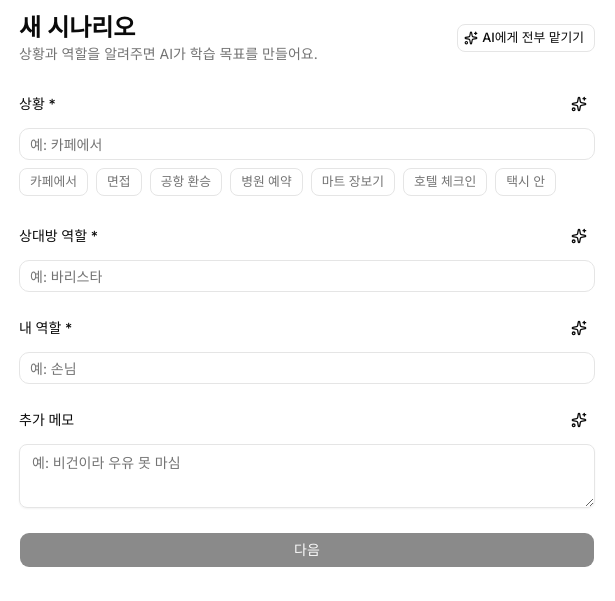
Test: ScenarioForm › disables 다음 until the 3 required fields are filled
Expected: the button "다음" is disabled, [19,532,595,568]
In the field labelled "상황 *": {"x": 307, "y": 144} [19,128,595,160], type "카페에서"
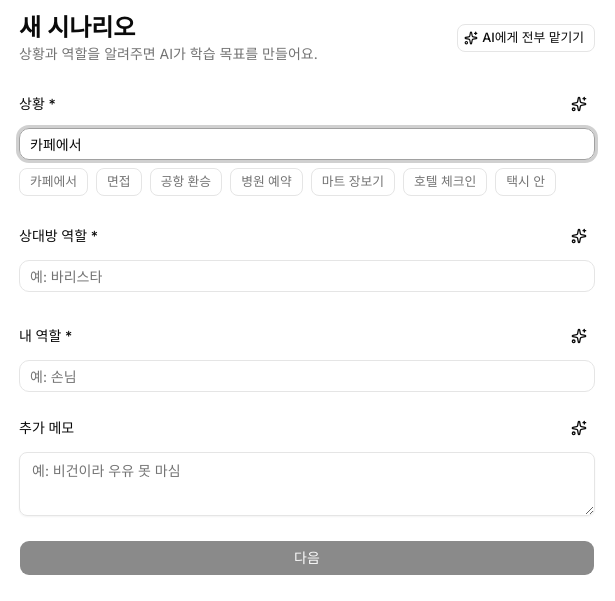
Expected: the button "다음" is disabled, [19,540,595,576]
In the field labelled "상대방 역할 *": {"x": 307, "y": 276} [19,260,595,292], type "바리스타"
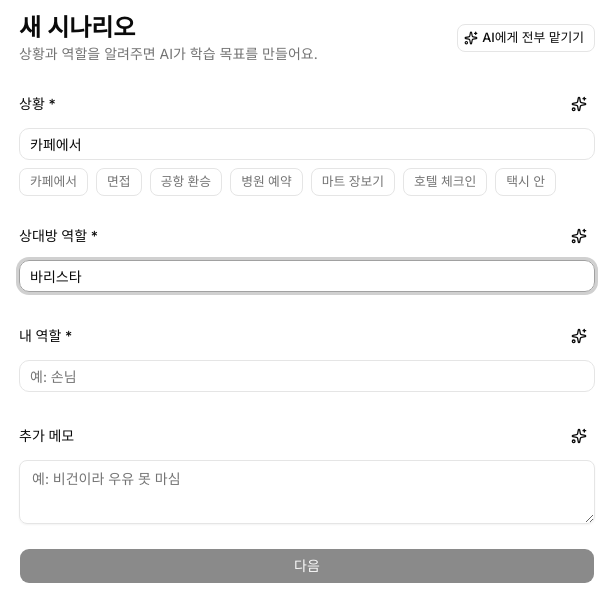
Expected: the button "다음" is disabled, [19,548,595,584]
In the field labelled "내 역할 *": {"x": 307, "y": 376} [19,360,595,392], type "손님"
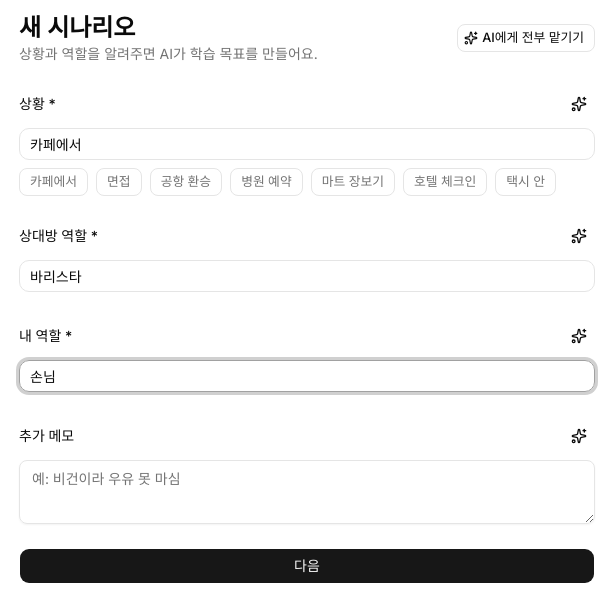
Result: the button "다음" is enabled at [19,548,595,584]
